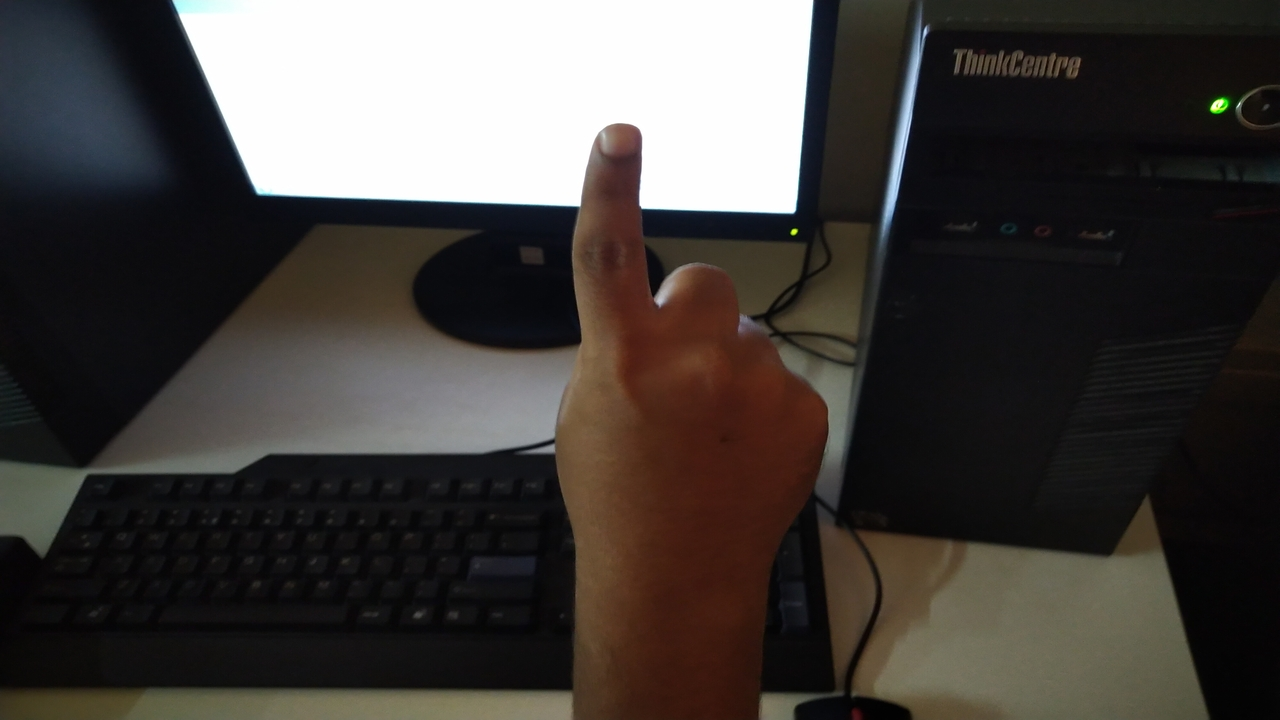fingertip: (582, 120, 644, 170)
